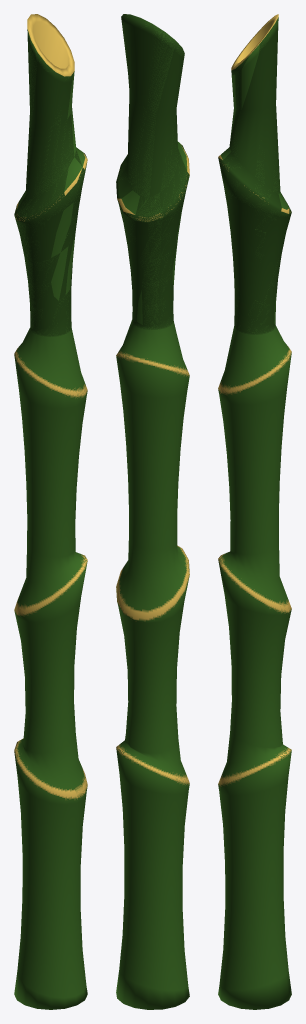
Rendered from Bamboofixed.fbx.
3 renders of one model, left to right at view 1: azimuth 90°, elevation 25°; view 2: azimuth 150°, elevation 25°; view 3: azimuth 270°, elevation 25°, orthographic.
Parts seen in each view (by area): view 1: Bake, Cylinder; view 2: Bake, Cylinder; view 3: Bake, Cylinder.
Part boxes in pixels (left/top/right/bottom): Bake: left=14, top=14, right=87, bottom=1009; Cylinder: left=15, top=37, right=87, bottom=335; Bake: left=116, top=14, right=189, bottom=1009; Cylinder: left=117, top=16, right=189, bottom=328; Bake: left=218, top=14, right=291, bottom=1009; Cylinder: left=218, top=25, right=290, bottom=333.
Bounding box in the file's own units: 20 × 292 × 20.
Materials: 3 (1 with a texture image).
